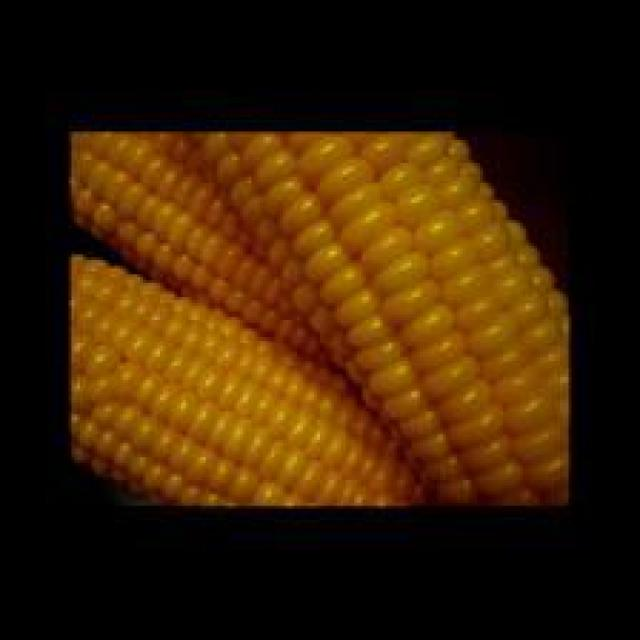corn: (69, 131, 571, 503)
